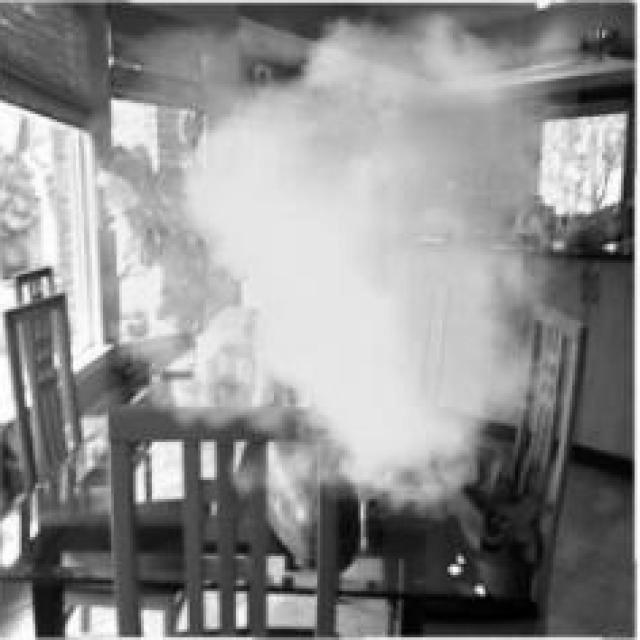fire: (178, 10, 580, 522)
